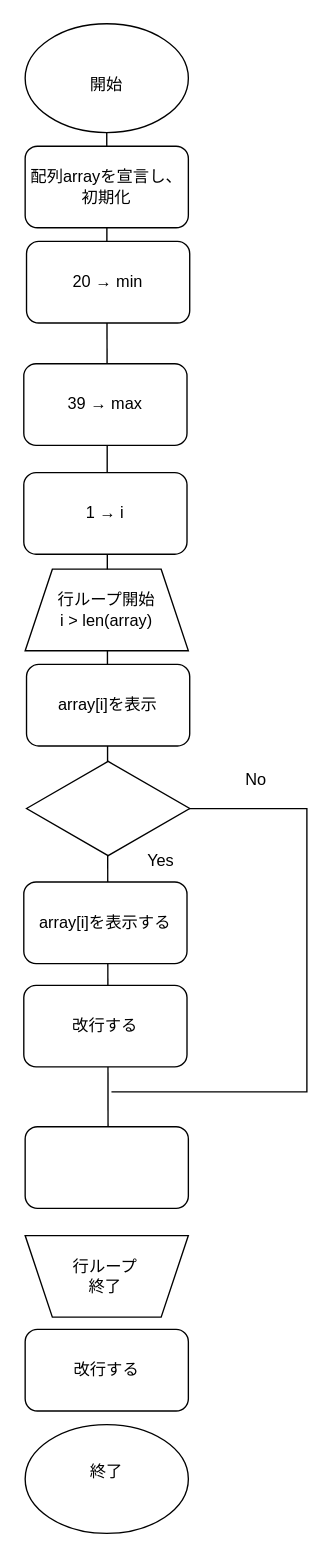
Image size: 332x1557. Some labels were removed from this diagram. Each missing label, with the centre of its shape:
array[i]が min以上 かつ max以下: pixel 107 807
i + 1 → i: pixel 106 1166
